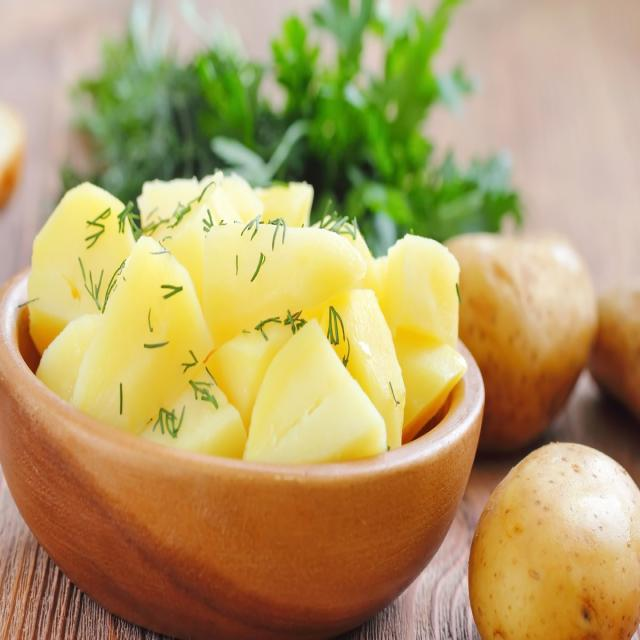papa: (16, 157, 482, 512)
